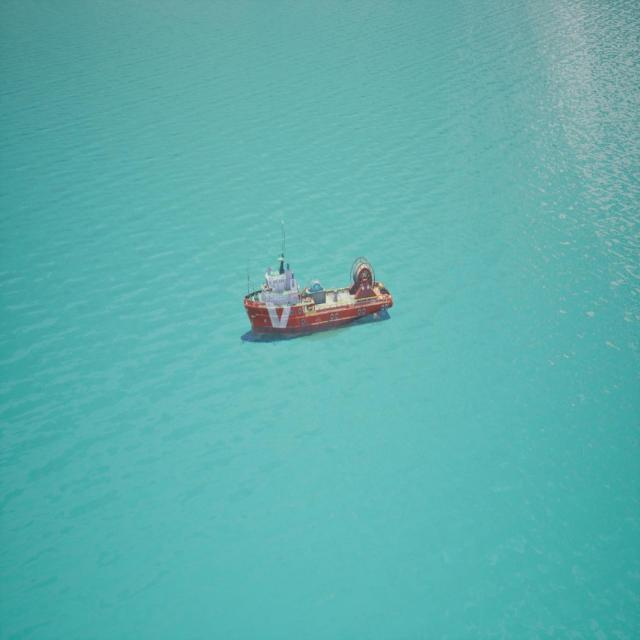tug boat: (242, 221, 393, 346)
